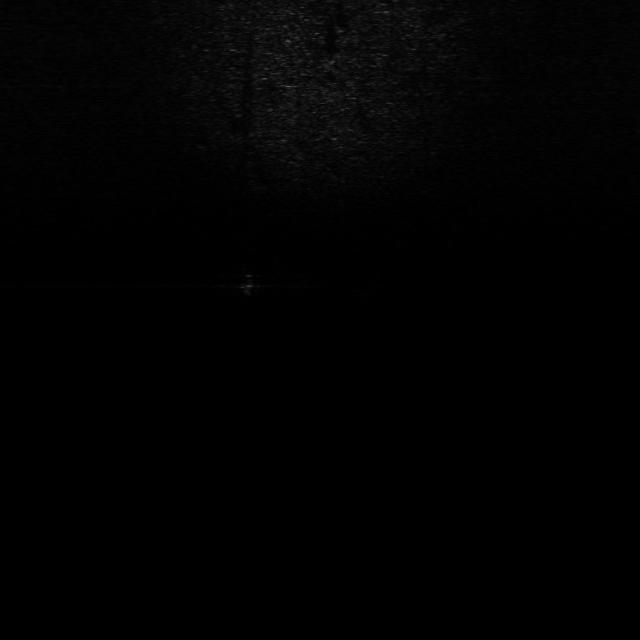human body: (228, 264, 266, 304)
